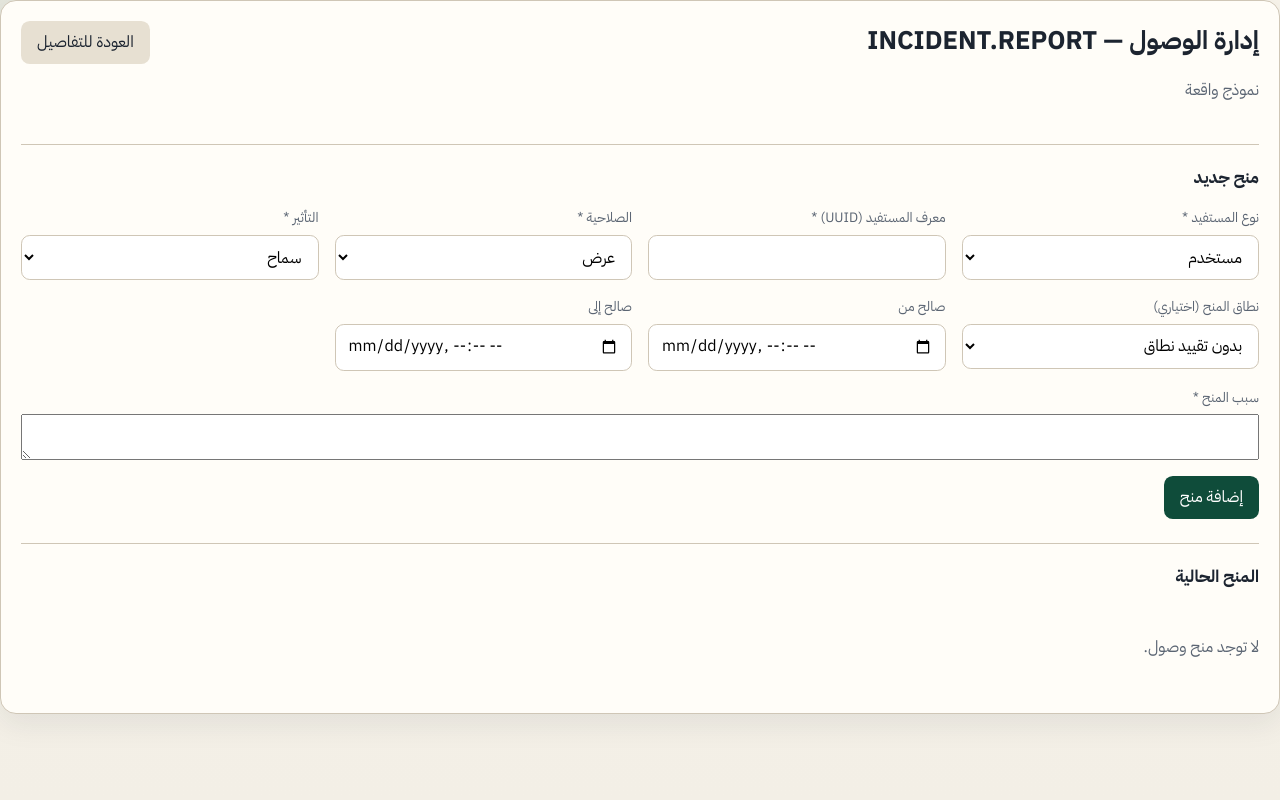
Scenario: FormAccessPage › validates grant form fields
Expected: the text "لا توجد منح وصول." is shown, [1144, 635, 1259, 659]
What coordinates should you click on to do the following:
click the button "إضافة منح"
I would click on:
 (1211, 498)
Its box is [1164, 476, 1259, 519].
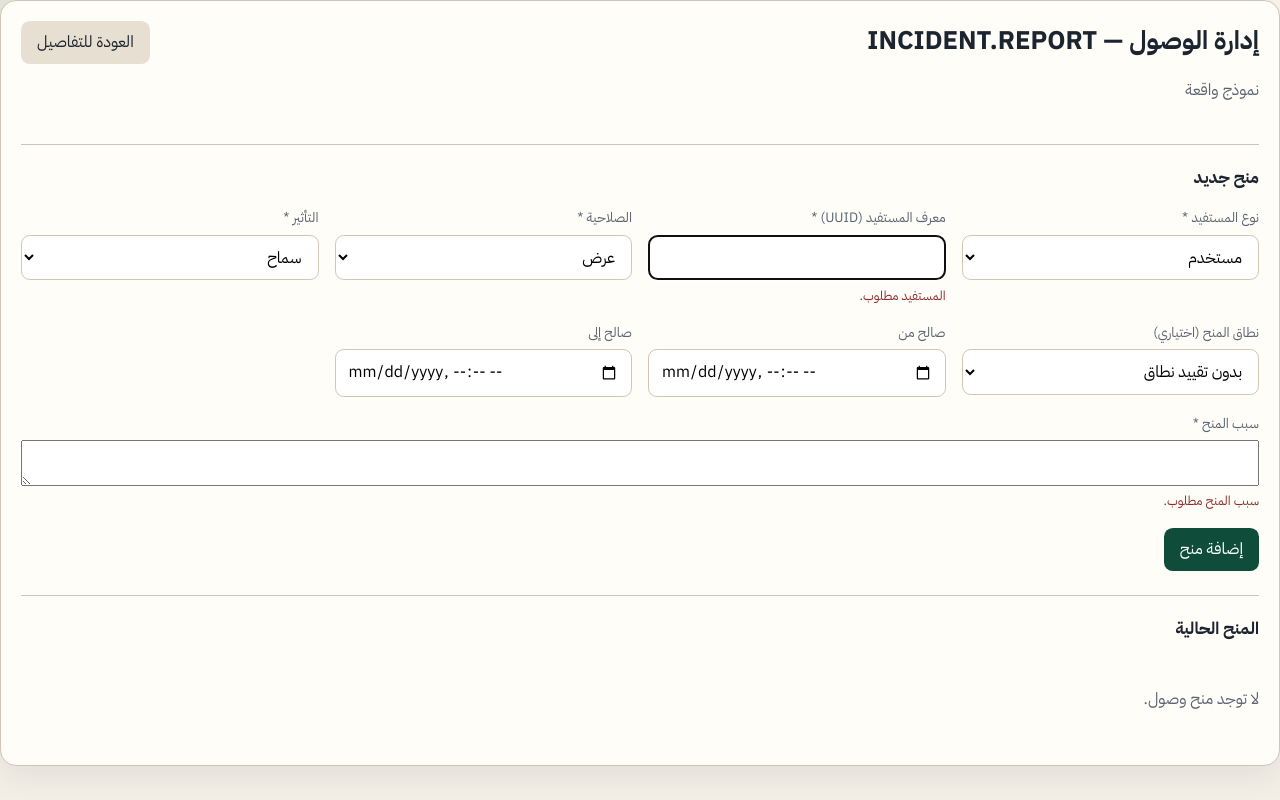
Result: the text "المستفيد مطلوب." is shown at [860, 286, 946, 304]
